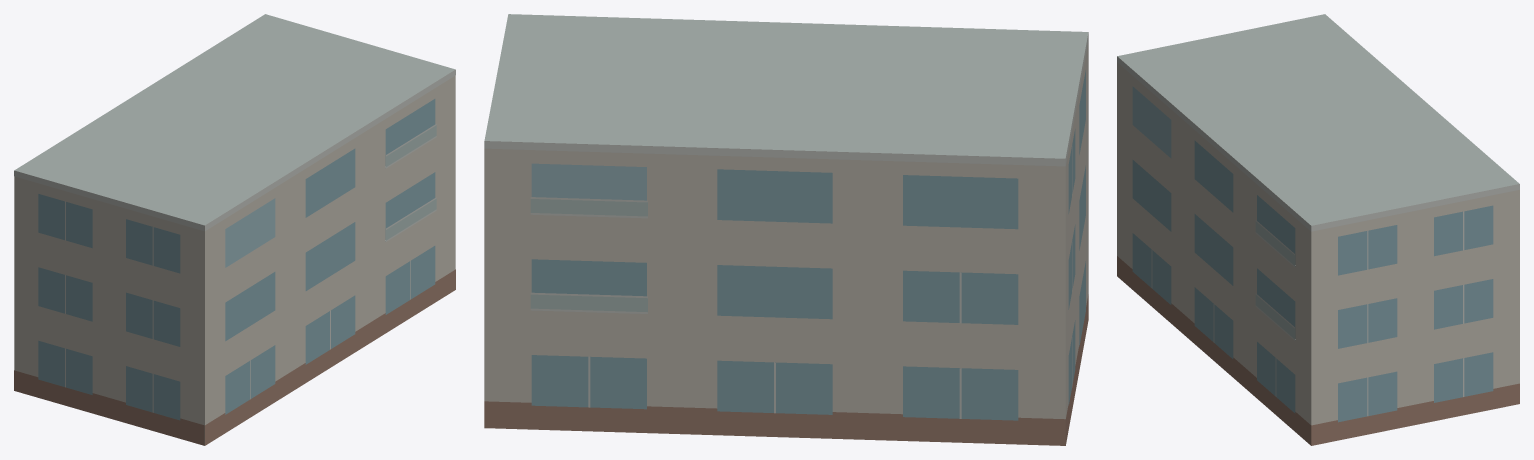
The model's file is survey-upis-32705819.glb.
3 renders of one model, left to right at view 1: azimuth 30°, elevation 25°; view 2: azimuth 150°, elevation 25°; view 3: azimuth 270°, elevation 25°, orthographic. The views are drawn at different scales.
Visible parts, largest first — view 1: survey-upis-32705819.tmp; view 2: survey-upis-32705819.tmp; view 3: survey-upis-32705819.tmp.
Boxes of the visible parts, bbox=[...] form: survey-upis-32705819.tmp: bbox=[14, 14, 455, 445]; survey-upis-32705819.tmp: bbox=[484, 14, 1088, 445]; survey-upis-32705819.tmp: bbox=[1117, 14, 1519, 445].
Bounding box in the file's own units: 18.9 × 9.15 × 15.19.
